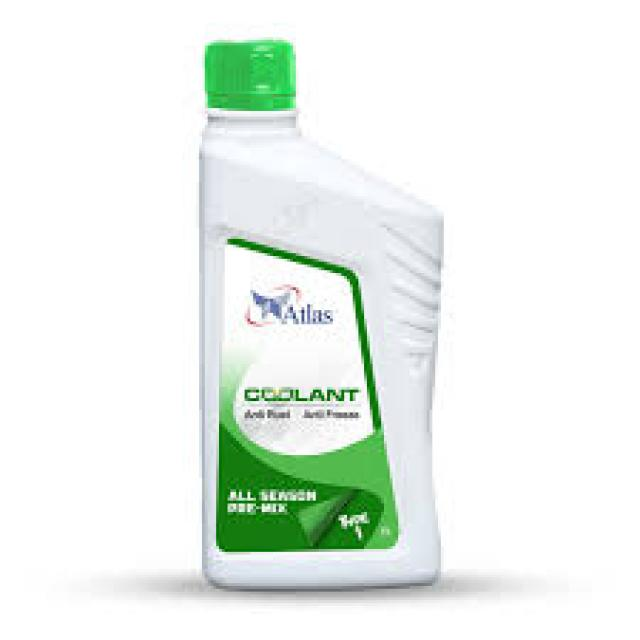coolant: (183, 34, 469, 602)
